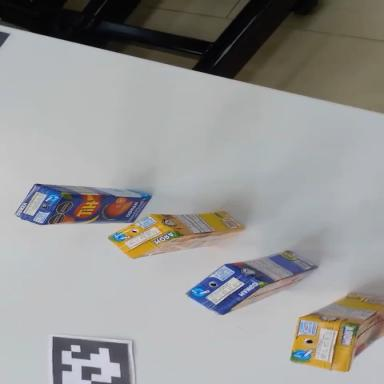HIT-MANGO: (182, 232, 321, 325), (15, 183, 152, 231)
HIT-MORA: (106, 198, 246, 263), (289, 286, 384, 376)
cara_F: (220, 264, 319, 315), (134, 225, 244, 258), (43, 192, 152, 225), (332, 306, 384, 371)
